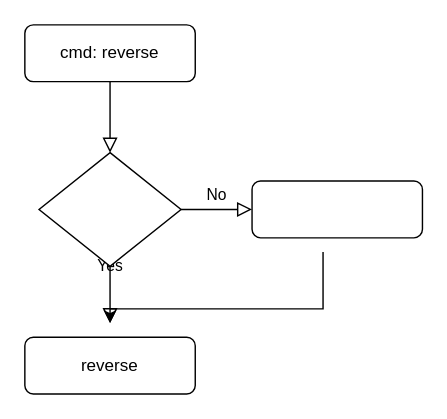
Some shapes in this 447 by 419 pixel diagram are drawn without their labels. The shapes that lost their labels are listed below. From the top down, each one's centre as x and y in pixels, then its label:
pixel 109 208: already connectted ?
pixel 336 209: cmd: connect
